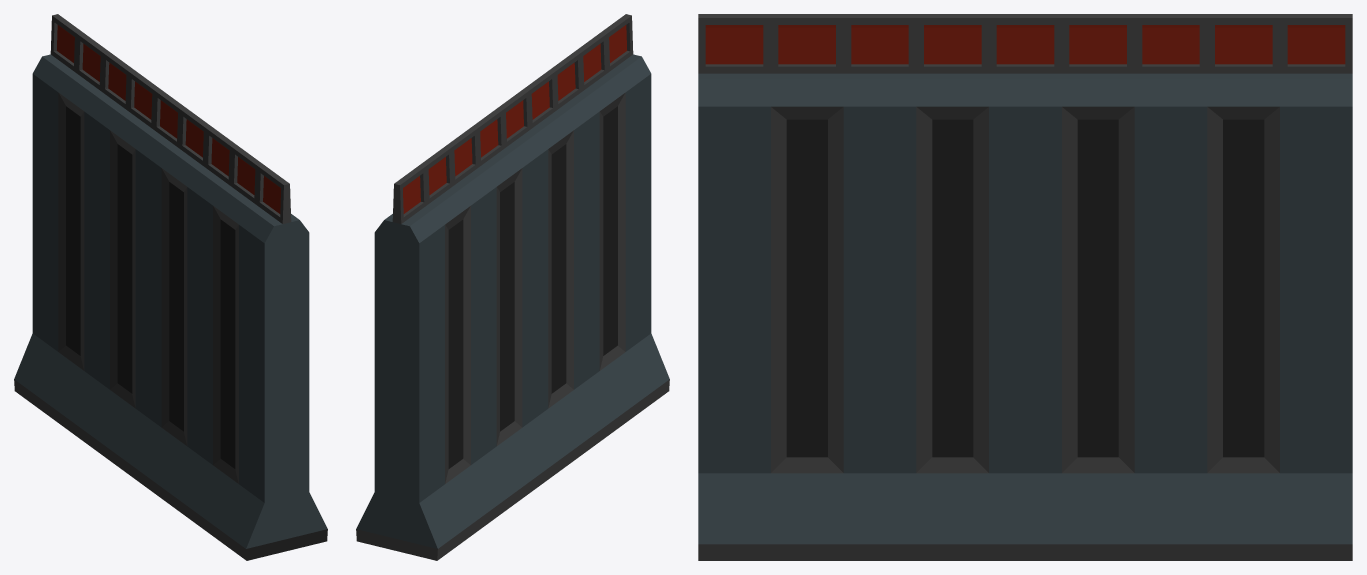
Rendered from ModelWallCenter.fbx.
3 views of the same model, side by side, from view 1: azimuth 30°, elevation 25°; view 2: azimuth 150°, elevation 25°; view 3: azimuth 270°, elevation 25° (orthographic). The views are drawn at different scales.
Parts seen in each view (by area): view 1: Cube; view 2: Cube; view 3: Cube.
Boxes of the visible parts, x1,y1,x2,y2 form: Cube: (14,14,327,560); Cube: (356,14,669,560); Cube: (698,14,1352,560).
Size of the model in its own units: 204 by 872 by 1000.
1 material, 1 textured.
